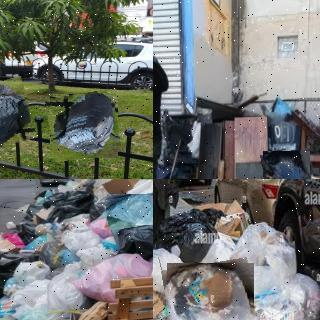Garbage: (164, 260, 257, 320), (48, 92, 120, 160), (153, 204, 220, 264), (67, 252, 152, 299), (228, 219, 298, 275), (249, 281, 310, 320), (0, 79, 33, 149), (153, 246, 191, 303), (196, 232, 242, 278), (106, 191, 153, 227), (261, 149, 311, 179), (44, 191, 95, 219), (12, 260, 50, 284)
